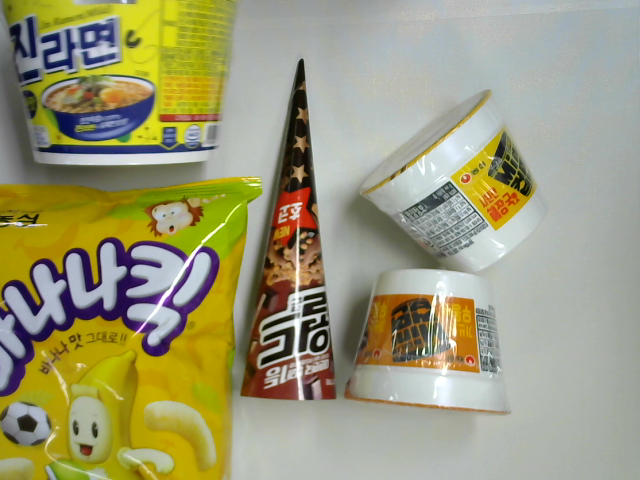Banana_Kick: (1, 161, 274, 480)
Hejangmini: (352, 81, 553, 276)
Jinlamyeon_Mild_Taste_Large_Cup: (1, 1, 252, 175)
Udongmini: (341, 261, 521, 428)
World_Cone_Choco: (236, 54, 348, 411)
